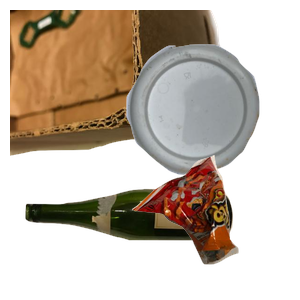cardboard: (10, 10, 237, 158)
glass: (23, 186, 249, 300)
plastic: (124, 42, 300, 210)
trash: (130, 153, 300, 300)
